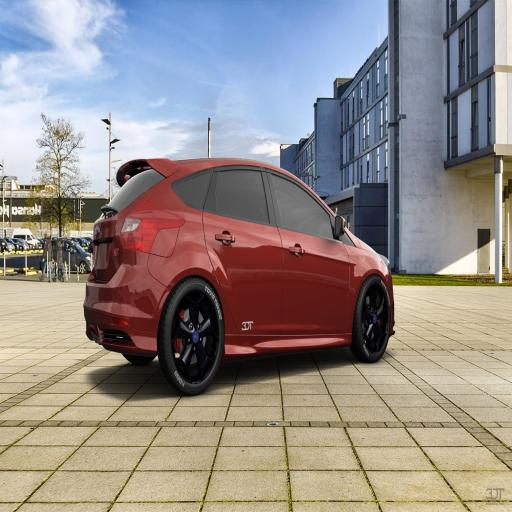hatchback: (84, 154, 394, 394)
